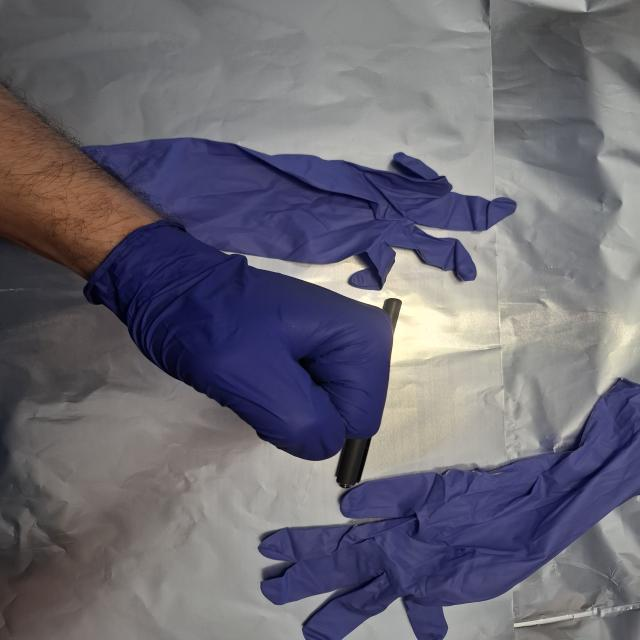glove_on: (87, 218, 396, 464)
